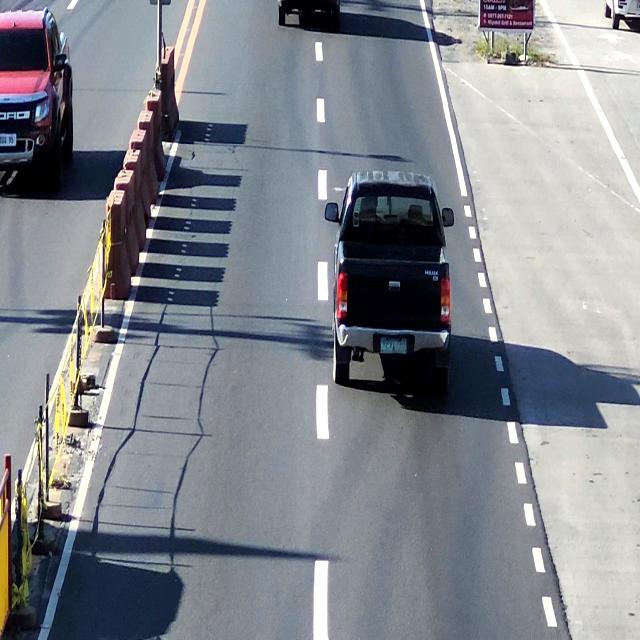Car: (334, 171, 458, 409)
License-Plate: (377, 334, 410, 358)
